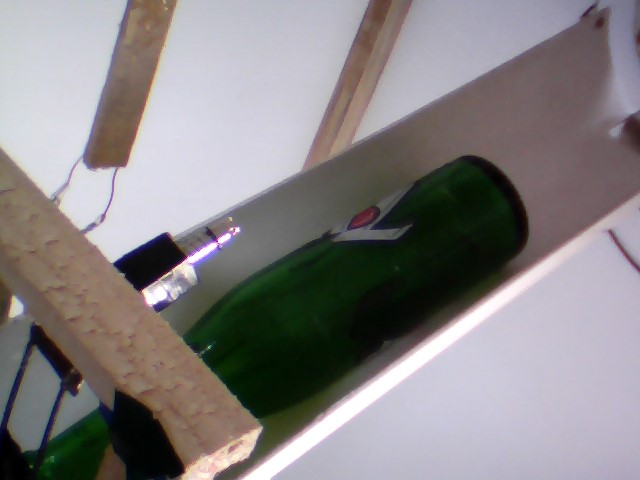vidrio: (181, 148, 538, 413)
